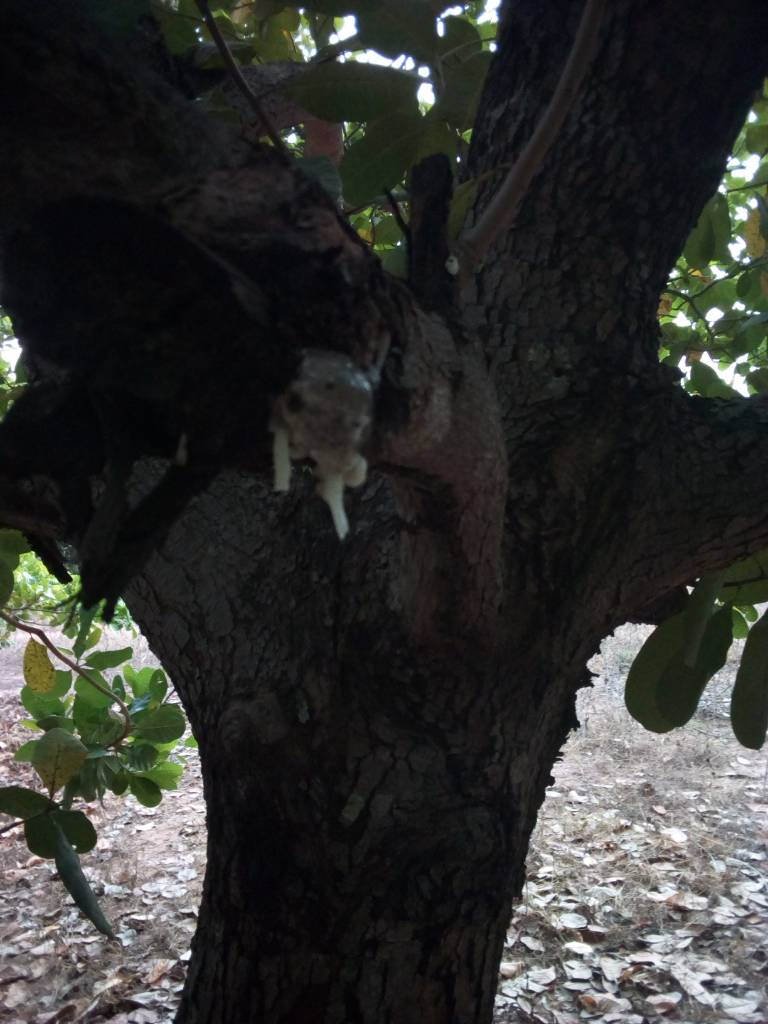Mecocorynus longiceps: (1, 207, 293, 621)
